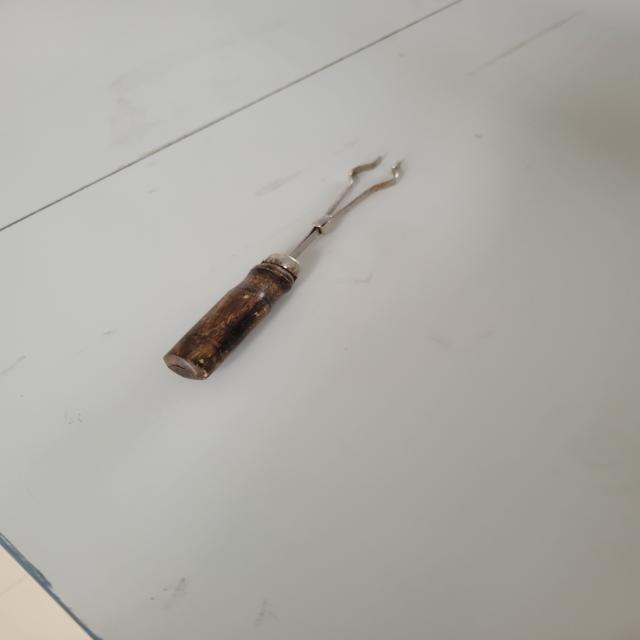TestTube_Holder: (129, 110, 465, 422)
